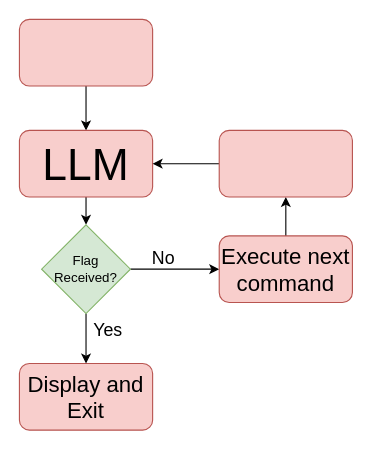
Image size: 372x450. Some labels were removed from this diagram. Each missing label, with the box of its shape:
Attack target IP: (18, 18, 153, 86)
Results in terminal: (218, 129, 352, 197)
